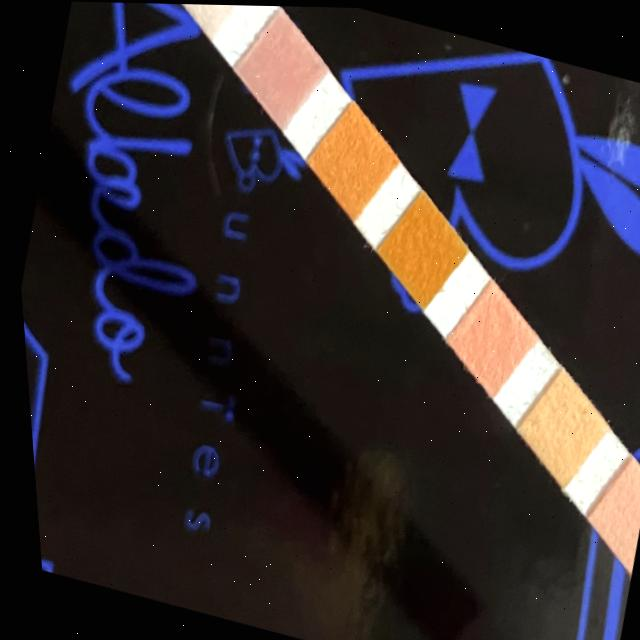Blood: (386, 208, 449, 289)
Ketone: (248, 29, 311, 106)
Protein: (524, 386, 585, 468)
SpGravity: (318, 118, 380, 199)
Urobilinogen: (594, 475, 640, 550)
pH: (453, 296, 515, 375)
